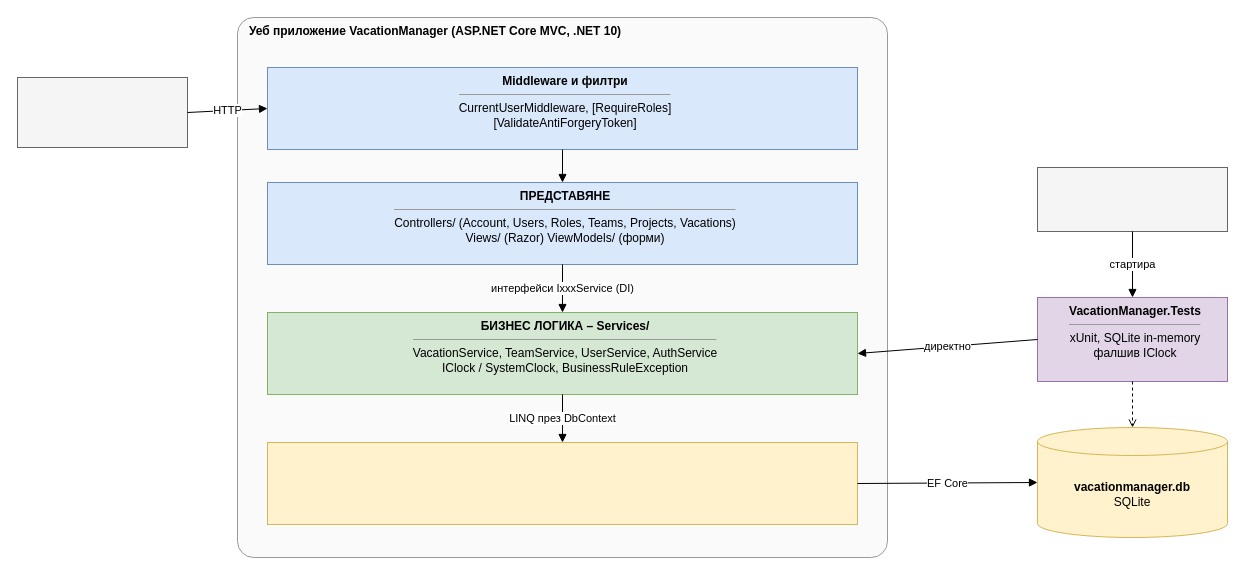
Some shapes in this 1245 by 575 pixel diagram are drawn without their labels. The shapes that lost their labels are listed below. From the top down, each one's centre as x and y in pixels, then its label:
point (102, 112): Браузър служител, лидер, CEO
point (1132, 199): GitHub Actions dotnet build + dotnet test
point (562, 483): ДОСТЪП ДО ДАННИ – Data/ ApplicationDbContext (EF Core), DbSeeder Migrations/
